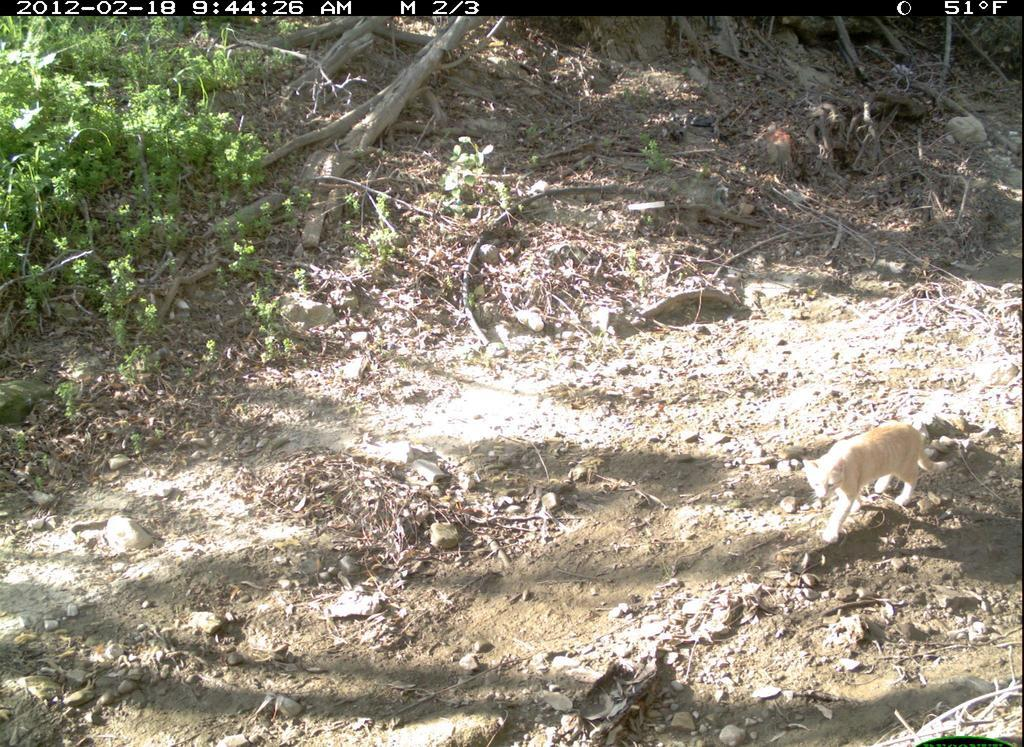cat: (785, 413, 959, 547)
